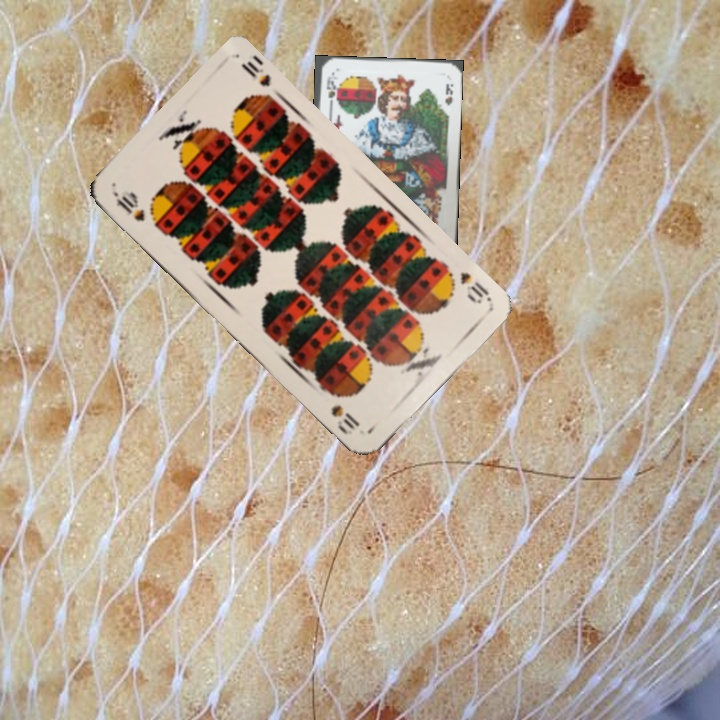S10: (456, 268, 494, 307), (109, 188, 148, 224)
SK: (322, 71, 337, 111)
